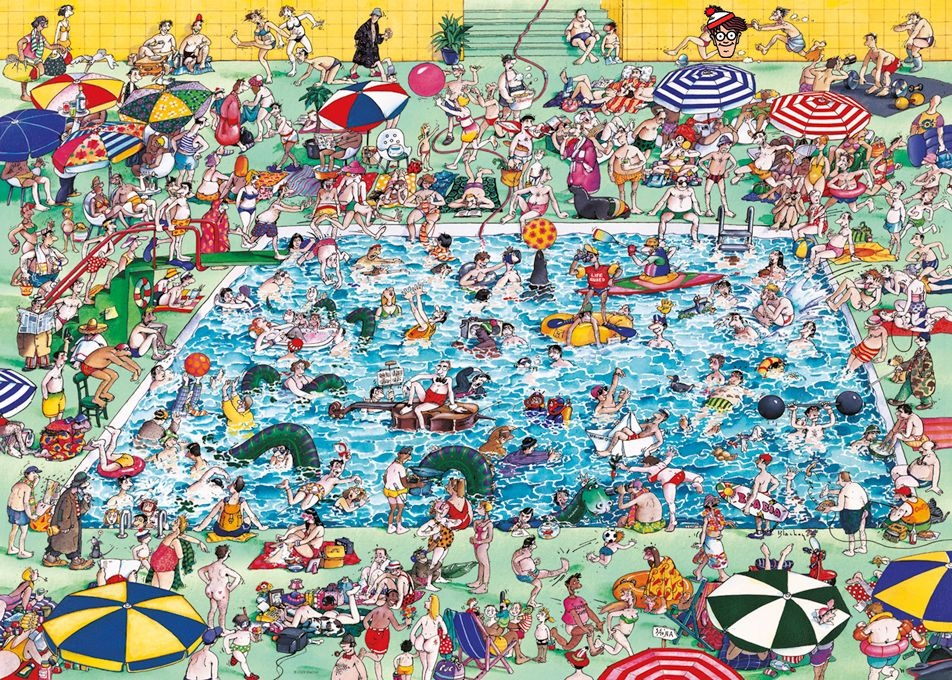waldo: (704, 5, 748, 58)
